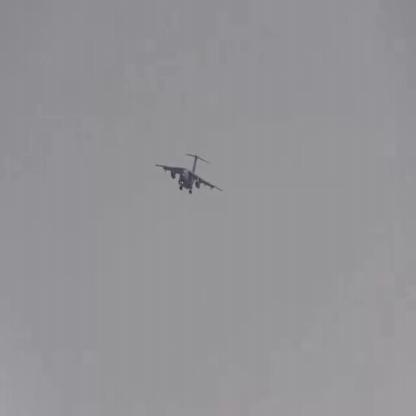CIV_Plane: (154, 147, 224, 195)
